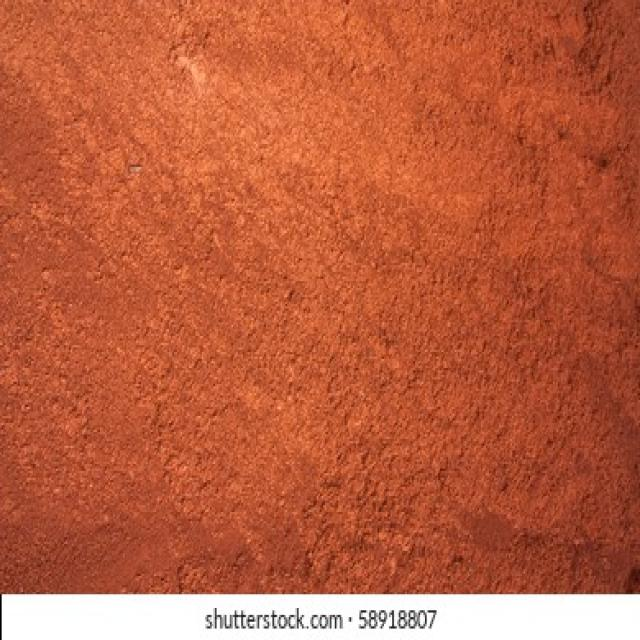Red Soil: (28, 48, 608, 534)
